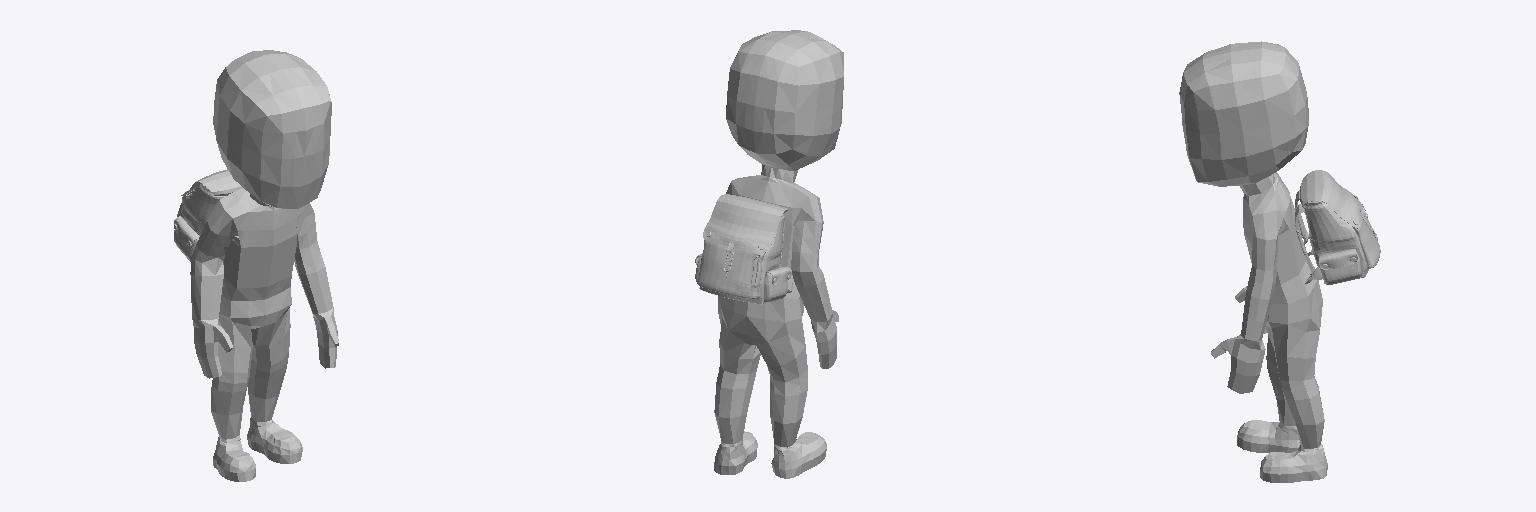
File: player_correndo_3.obj
The picture shows the model from 3 angles: view 1: azimuth 30°, elevation 25°; view 2: azimuth 150°, elevation 25°; view 3: azimuth 270°, elevation 25°; orthographic projection.
Parts seen in each view (by area): view 1: characterMedium, Cube; view 2: characterMedium, Cube; view 3: characterMedium, Cube.
Part boxes in pixels (x1,y1,x2,y2): characterMedium: (190,50,338,481); Cube: (174,169,241,261); characterMedium: (714,30,843,478); Cube: (695,194,793,304); characterMedium: (1179,41,1327,482); Cube: (1295,170,1380,284).
Size of the model in its own units: 1.16 by 3.73 by 1.64.